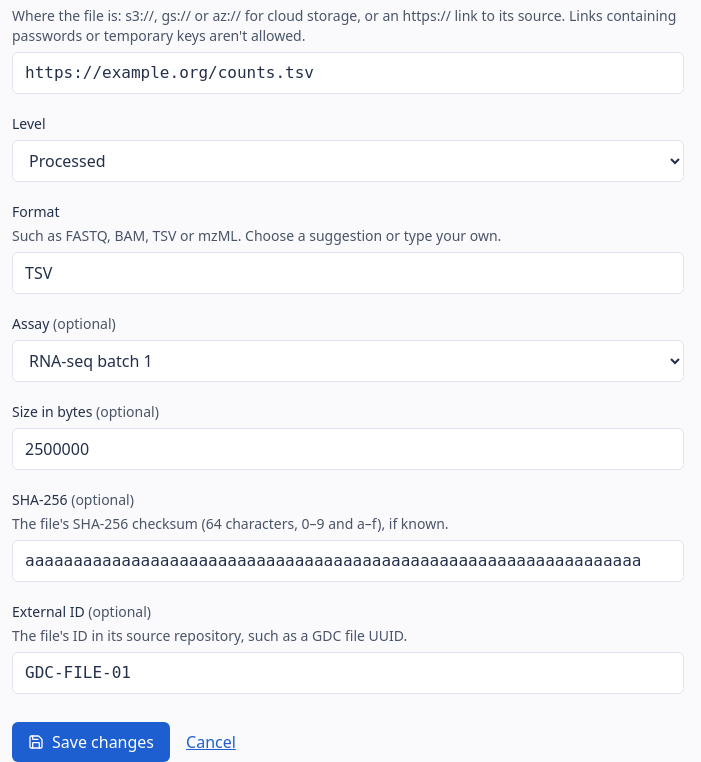
Test case: EditDataFilePage › shows that the changes are being saved
The image size is (701, 762).
(page scrolled)
Click the button "Save changes".
click(91, 742)  # box left=12, top=722, right=170, bottom=761
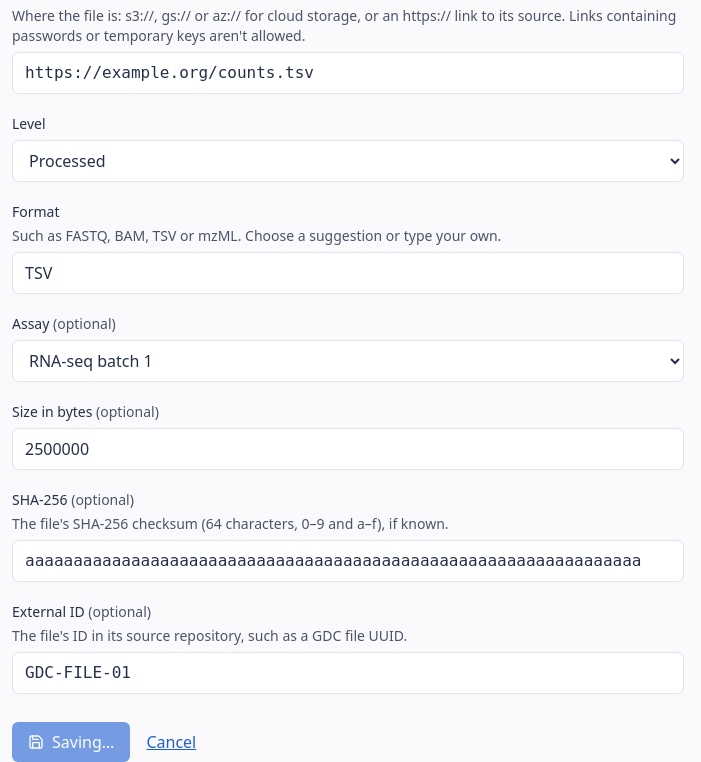
Now the button "Saving…" is disabled, box left=12, top=722, right=130, bottom=761
